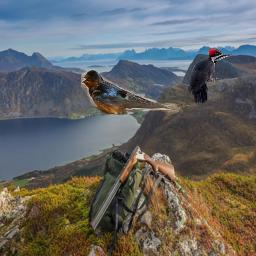Swallow: (81, 69, 179, 114)
Woodpecker: (186, 48, 233, 103)
